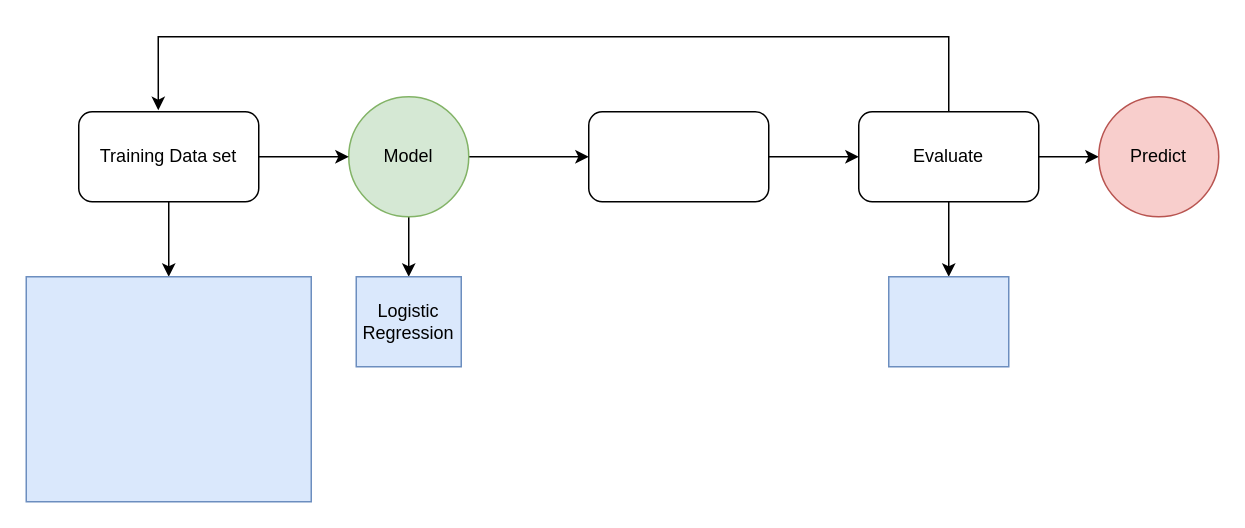
The diagram is 1245 pixels wide and 528 high, and some of its shapes have lost their labels. The shapes that lost their labels are listed below. From the top down, each one's centre as x and y in pixels, then its label:
(678,156): Train
(948,321): Accuracy
(168,388): Datasets Emotion Based Data Sets 1. Yelp 2. Amazon 3. IMDB
